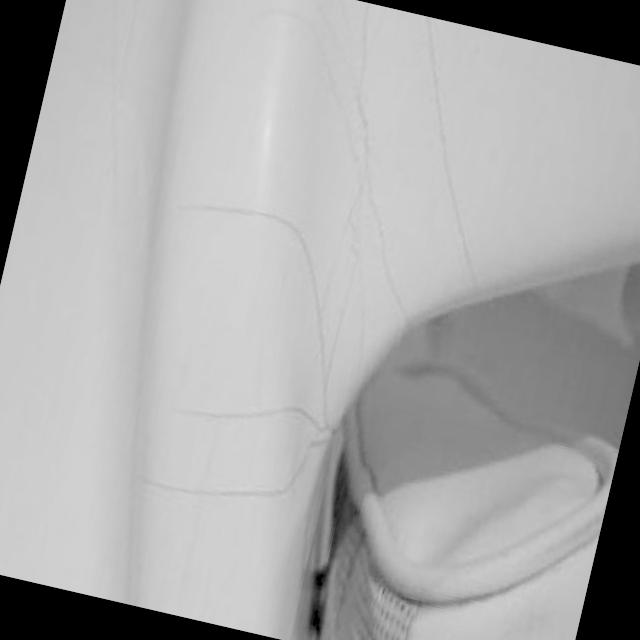crack: (186, 447, 322, 547), (174, 375, 314, 452), (183, 188, 302, 250)
